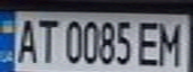0: (60, 16, 84, 65), (81, 17, 100, 66)
5: (115, 17, 139, 66)
8: (97, 17, 118, 66)
A: (12, 15, 39, 64)
E: (136, 18, 163, 68)
M: (154, 18, 187, 68)
T: (33, 15, 60, 64)
